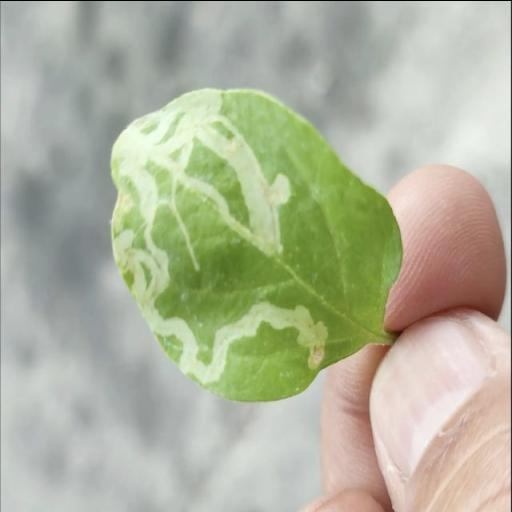disease_tomato: (108, 88, 404, 400)
